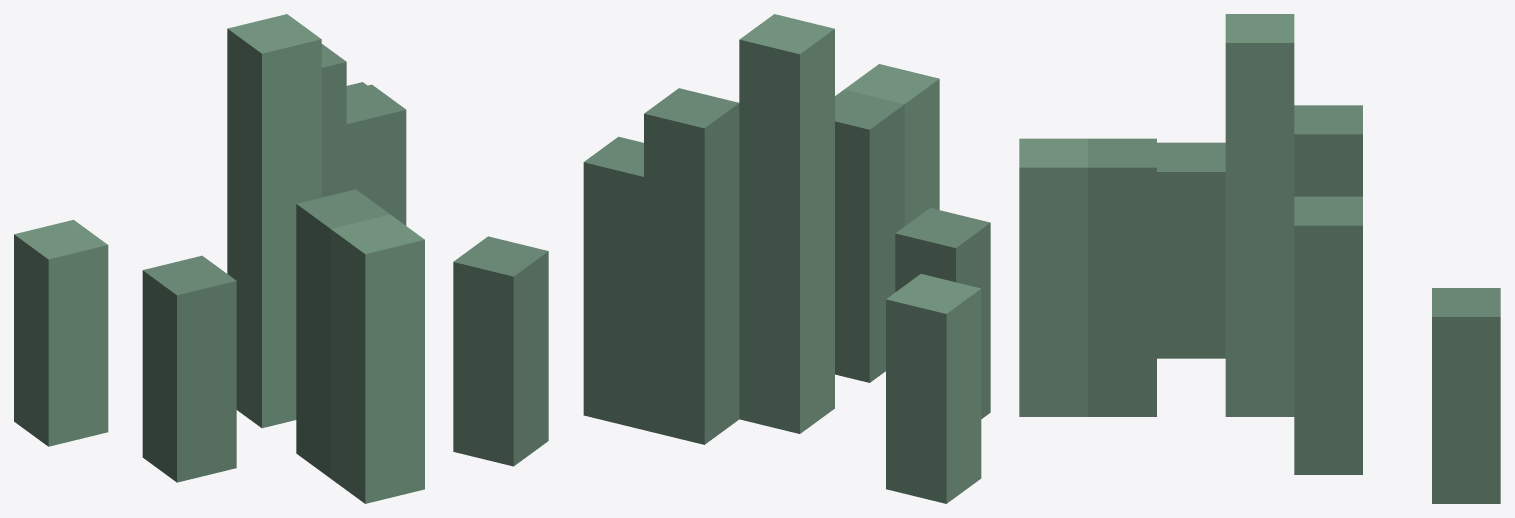
The model's file is algas_varadas_03.glb.
The picture shows the model from 3 angles, left to right: view 1: azimuth 30°, elevation 25°; view 2: azimuth 150°, elevation 25°; view 3: azimuth 270°, elevation 25°; orthographic projection.
Parts seen in each view (by area): view 1: algas_varadas_03; view 2: algas_varadas_03; view 3: algas_varadas_03.
Part boxes in pixels (bbox=[...]): algas_varadas_03: bbox=[14, 14, 424, 503]; algas_varadas_03: bbox=[453, 14, 990, 503]; algas_varadas_03: bbox=[1019, 14, 1500, 503].
Size of the model in its own units: 0.7 by 0.6 by 0.7.
